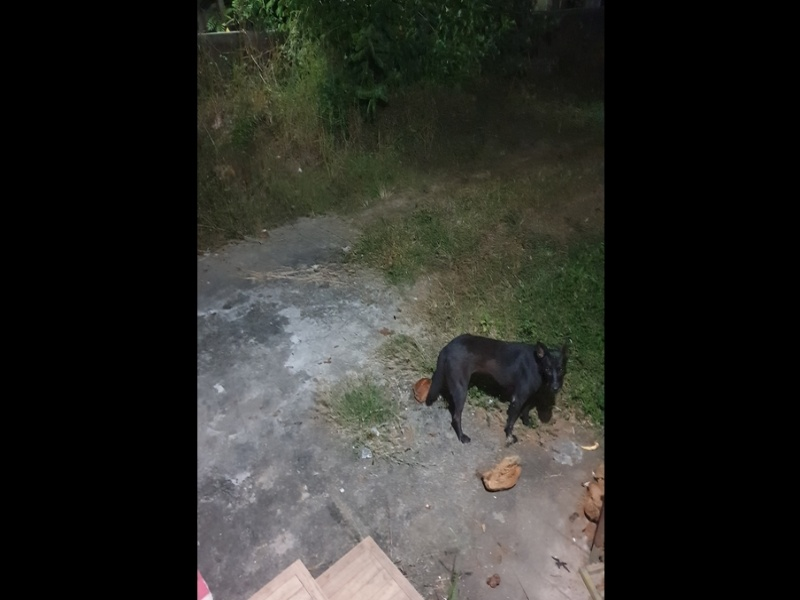dog: (411, 330, 571, 455)
